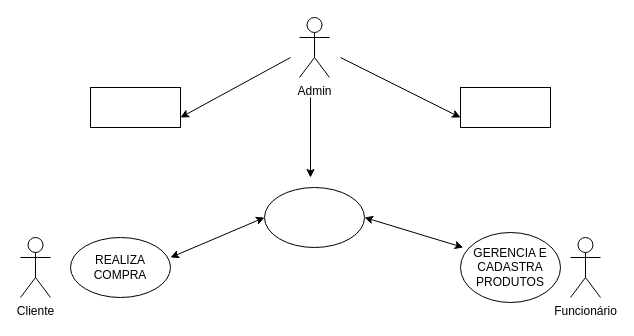
This 634x336 diagram has some shape labels left out. Here are the shapes that lost their labels. From the top down, the centre of each, then its label:
At (135,107): "GERENCIA PROJETO".
At (505,107): "ADMINISTRA USUÁRIOS".
At (314,217): "CADASTRO LOGIN".
